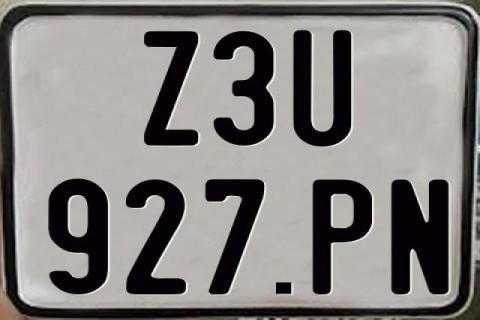0: (123, 180, 189, 296), (211, 29, 273, 149), (202, 179, 264, 296), (45, 178, 105, 296)
N: (390, 177, 453, 295)
P: (312, 177, 374, 292)
U: (290, 29, 354, 147)
Z: (141, 29, 195, 143)
